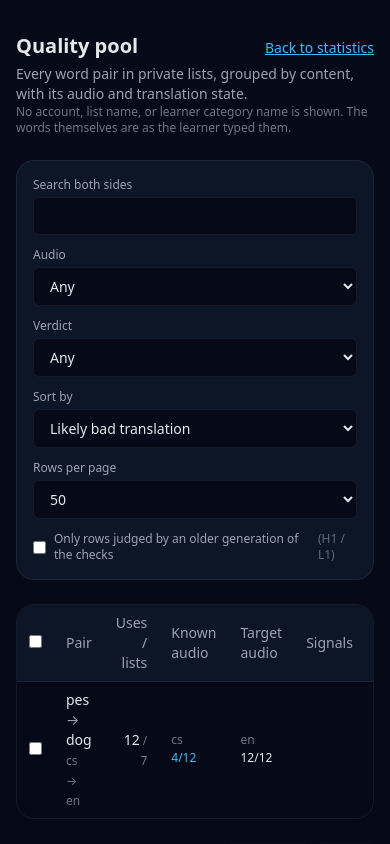
Test case: AdminQualityPoolPage › counts only the selected pairs a bulk action can change
Click the checkbox named "pes → dog".
click(36, 748)  # box [29, 742, 42, 755]
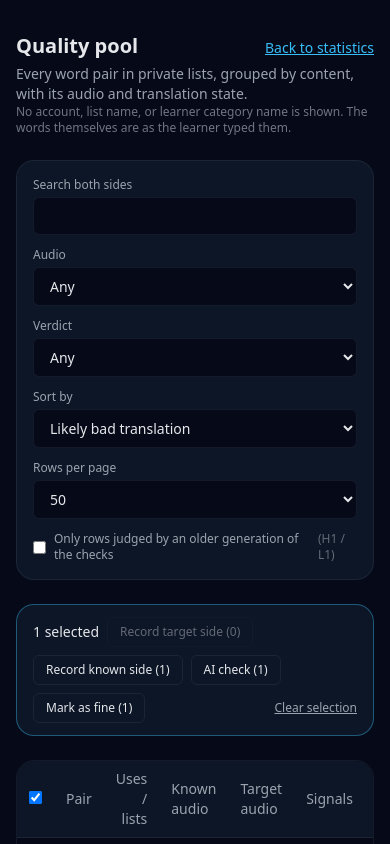
Result: the text "1 selected" is shown at [33, 622, 99, 642]
Result: the button "Record known side (1)" is shown at [33, 655, 182, 685]
Result: the button "Record target side (0)" is disabled at [107, 617, 253, 647]
